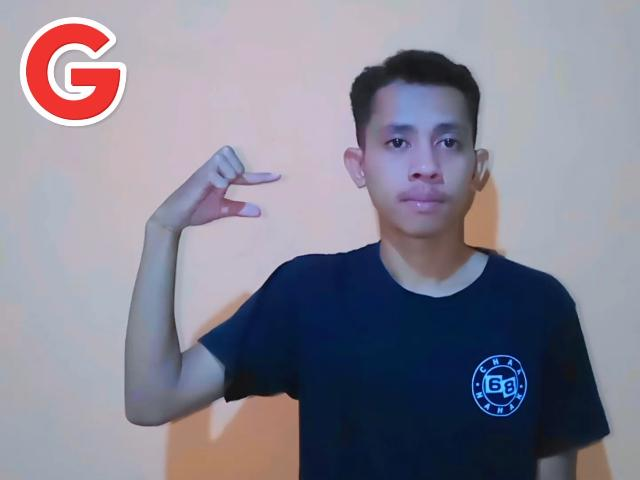G: (142, 144, 280, 234)
